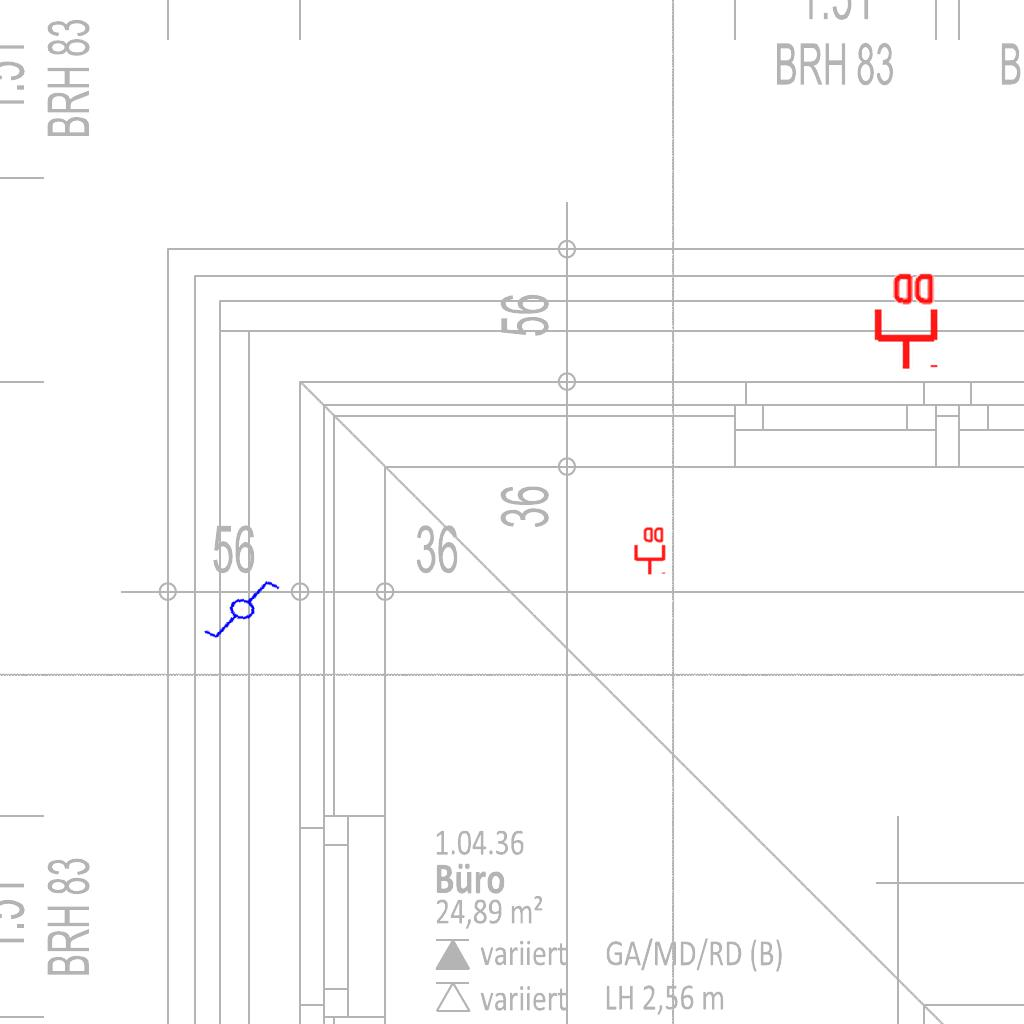Datenanschluss_zweifach: (870, 269, 939, 372), (632, 525, 666, 576)
Wechselschalter: (200, 568, 292, 654)
